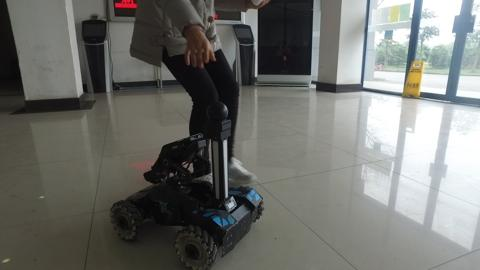chariot: (97, 98, 276, 270)
